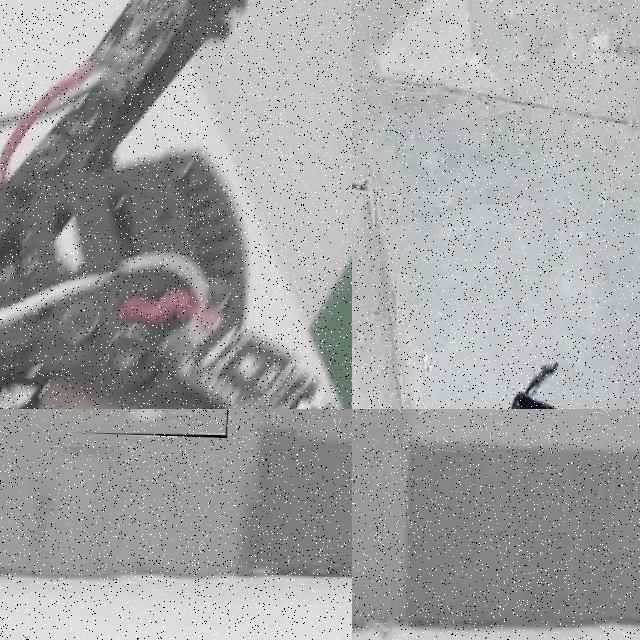drone: (0, 0, 352, 409), (70, 409, 229, 438)
